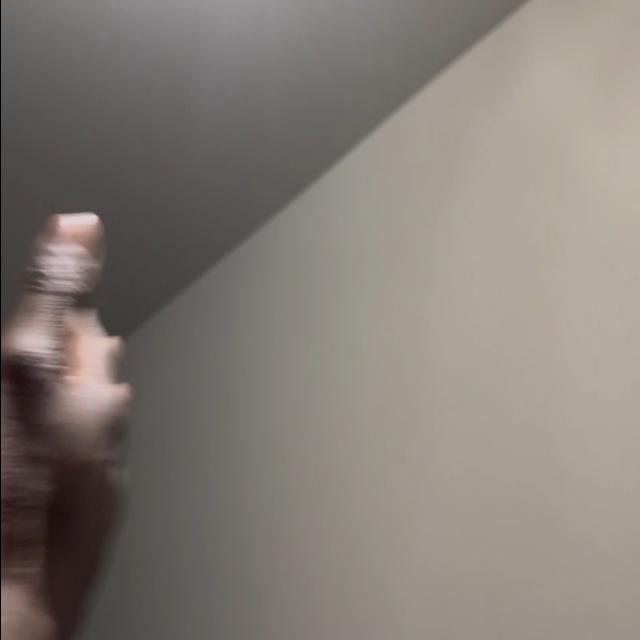Paper: (0, 201, 133, 639)
